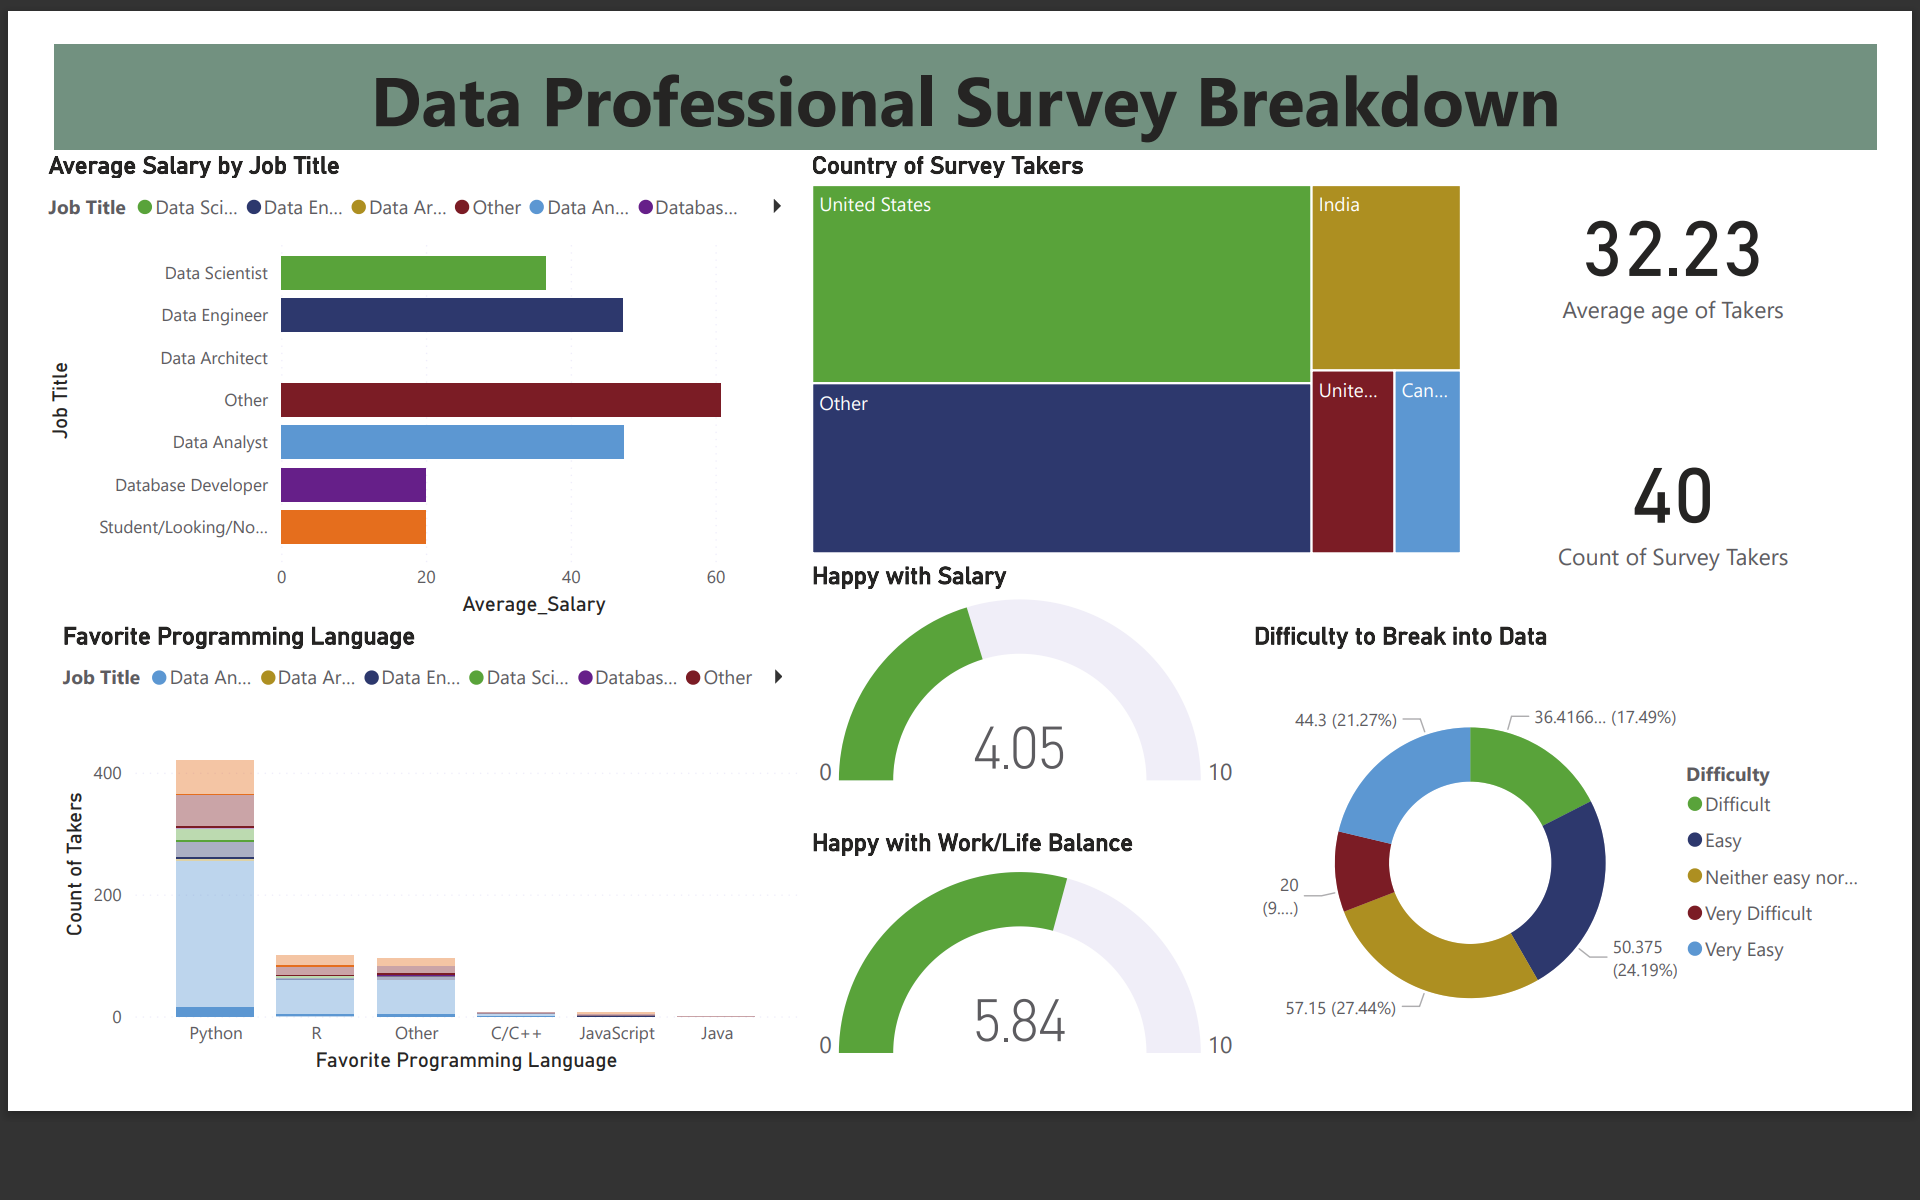

What the dashboard file says about the page in this screenshot:
{"tool":"powerbi","page":{"name":"Page 1","canvas":[1280,720],"ordinal":0},"visuals":[{"type":"textbox","box":[9.4,0,1269.9,73.7],"z":0},{"type":"card","fields":{"Values":["Count(Data Professional Survey.Unique ID)"]},"box":[994,234,286,168],"z":1000},{"type":"card","fields":{"Values":["Avg(Data Professional Survey.Q10 - Current Age)"]},"box":[994,74,286,144],"z":2000},{"type":"barChart","title":"Average Salary by Job Title","fields":{"Category":["Data Professional Survey.Q1 - Which Title Best Fits your Current Role?.1"],"Y":["Avg(Data Professional Survey.Average_Salary)"],"Series":["Data Professional Survey.Q1 - Which Title Best Fits your Current Role?.1"]},"box":[0,74,532,328],"z":3000},{"type":"columnChart","title":"Favorite Programming Language","fields":{"Category":["Data Professional Survey.Q5 - Favorite Programming Language.1"],"Y":["CountNonNull(Data Professional Survey.Unique ID)"],"Series":["Data Professional Survey.Q1 - Which Title Best Fits your Current Role?.1"]},"box":[10,402,522,318],"z":4000},{"type":"treemap","title":"Country of Survey Takers","fields":{"Group":["Data Professional Survey.Q11 - Which Country do you live in?.1"],"Values":["CountNonNull(Data Professional Survey.Q11 - Which Country do you live in?.1)"]},"box":[532,74,462,286],"z":5000},{"type":"gauge","title":"Happy with Work/Life Balance","fields":{"Y":["Avg(Data Professional Survey.Q6 - How Happy are you in your Current Position with the following? (Work/Life Balance))"],"MinValue":["Min(Data Professional Survey.Q6 - How Happy are you in your Current Position with the following? (Work/Life Balance))"],"MaxValue":["Max(Data Professional Survey.Q6 - How Happy are you in your Current Position with the following? (Work/Life Balance))1"]},"box":[532,546,308,174],"z":5001},{"type":"gauge","title":"Happy with Salary","fields":{"Y":["Avg(Data Professional Survey.Q6 - How Happy are you in your Current Position with the following? (Salary))"],"MinValue":["Min(Data Professional Survey.Q6 - How Happy are you in your Current Position with the following? (Salary))"],"MaxValue":["Max(Data Professional Survey.Q6 - How Happy are you in your Current Position with the following? (Salary))"]},"box":[532,360,308,166],"z":5002},{"type":"donutChart","title":"Difficulty to Break into Data","fields":{"Y":["Avg(Data Professional Survey.Average_Salary)"],"Series":["Data Professional Survey.Q7 - How difficult was it for you to break into Data?"]},"box":[840,402,440,318],"z":5003}]}

Visuals, with their boxes on the page's 1280x720 design canvas (x1, y1, x2, y2). These are canvas units, not pixel positions in the 1920x1200 screenshot, which may show the page scaled, cropped or inside an application window:
textbox: [9, 0, 1279, 74]
card - Count(Data Professional Survey.Unique ID): [994, 234, 1280, 402]
card - Avg(Data Professional Survey.Q10 - Current Age): [994, 74, 1280, 218]
"Average Salary by Job Title" barChart: [0, 74, 532, 402]
"Favorite Programming Language" columnChart: [10, 402, 532, 720]
"Country of Survey Takers" treemap: [532, 74, 994, 360]
"Happy with Work/Life Balance" gauge: [532, 546, 840, 720]
"Happy with Salary" gauge: [532, 360, 840, 526]
"Difficulty to Break into Data" donutChart: [840, 402, 1280, 720]
